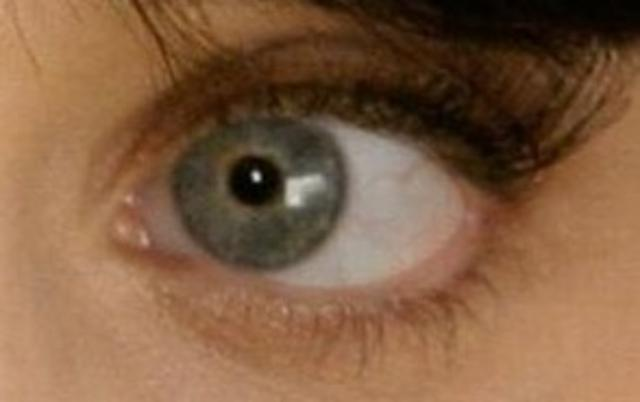eye: (180, 118, 350, 274)
